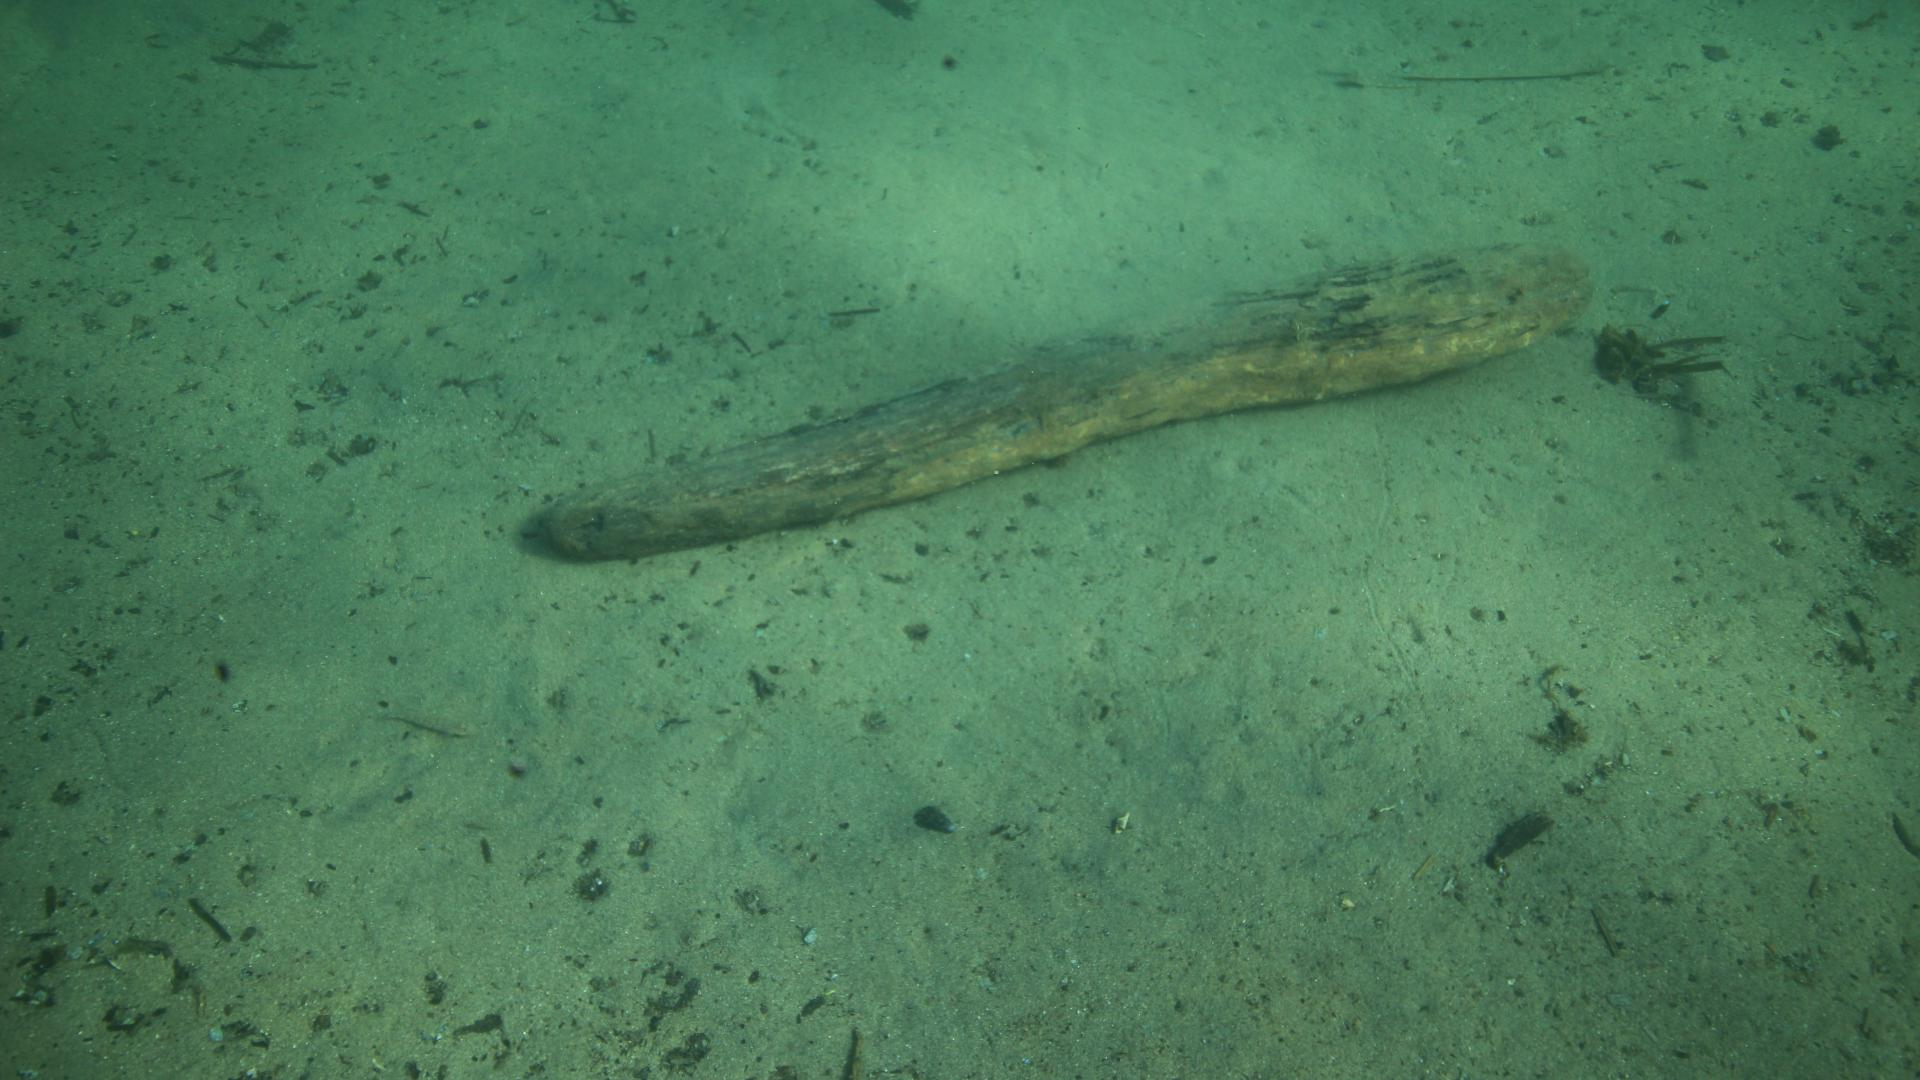wood: (541, 241, 1594, 559)
